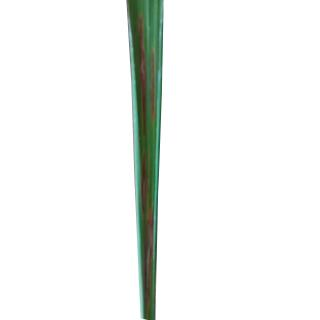Blast: (142, 154, 153, 304), (136, 14, 148, 118)
